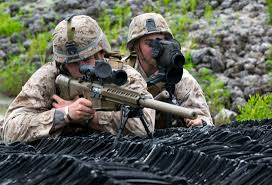gun: (52, 61, 199, 150)
